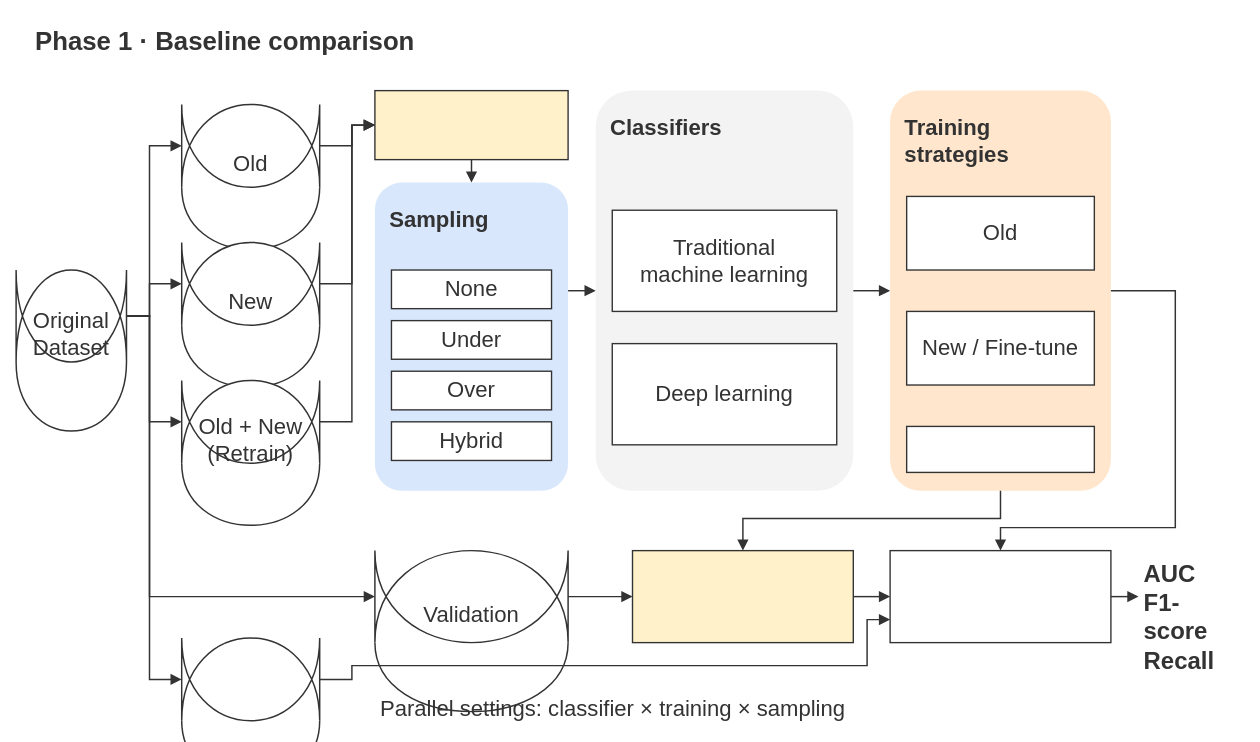
This 1260x742 diagram has some shape labels left out. Here are the shapes that lost their labels. From the top down, the centre of each, then its label:
At point (471, 125): "Preprocess".
At point (1000, 449): "Retrain".
At point (742, 596): "Classifier selection + fixed threshold".
At point (1000, 596): "Test inference".
At point (250, 679): "Test".
